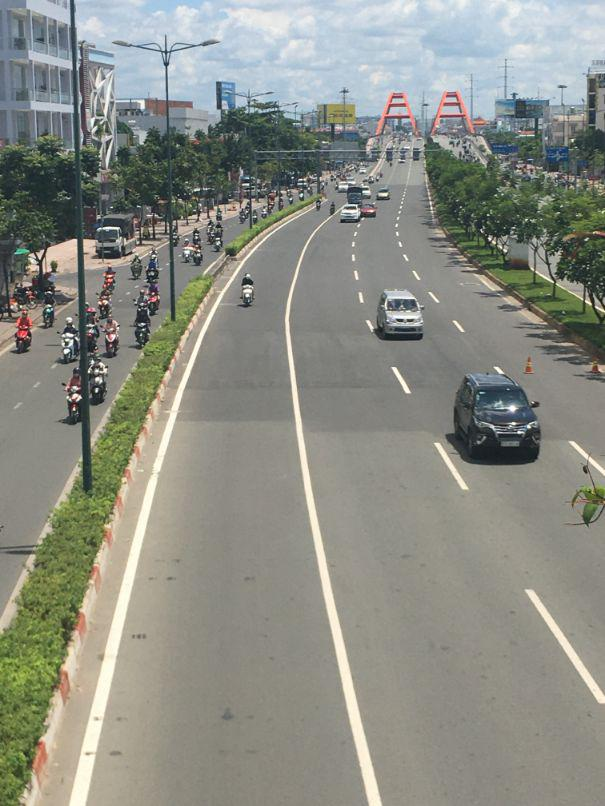car: (453, 368, 542, 461), (374, 290, 422, 341), (340, 204, 361, 223), (358, 203, 376, 218), (376, 188, 392, 202)
motorbike: (242, 275, 256, 306), (147, 254, 159, 282)
truck: (97, 215, 138, 261), (348, 187, 364, 205), (600, 544, 602, 545)
